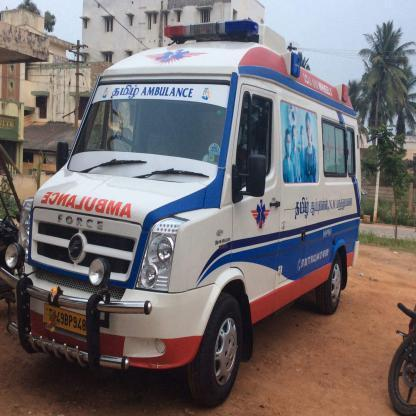Ambulance: (34, 189, 134, 223), (137, 85, 196, 100)
